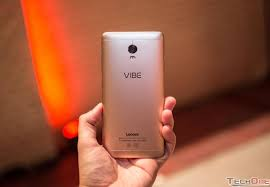lenovo: (100, 28, 166, 163)
